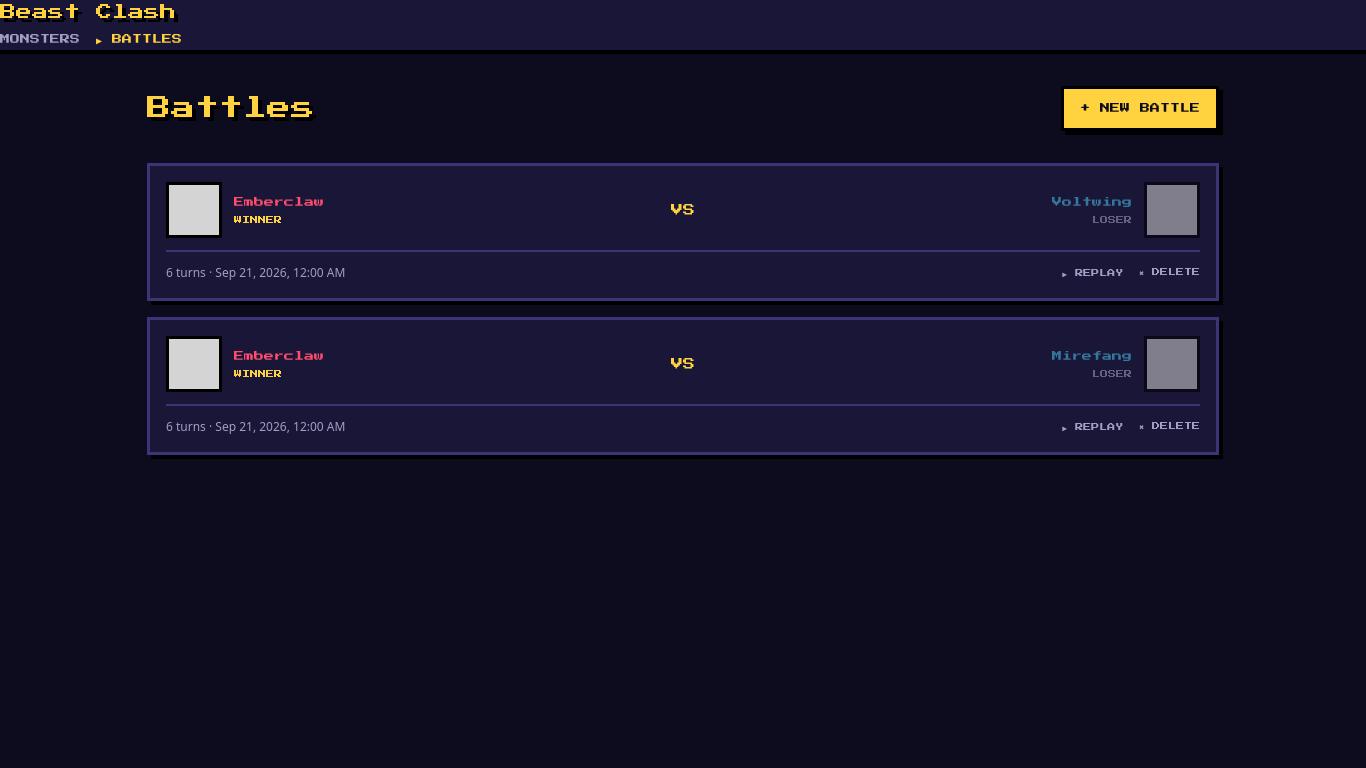
Test: BattleList: delete › deletes the battle and refreshes the list
Click the button "✖ Delete" below "Mirefang": x=1170, y=427 [1139,421,1200,433]
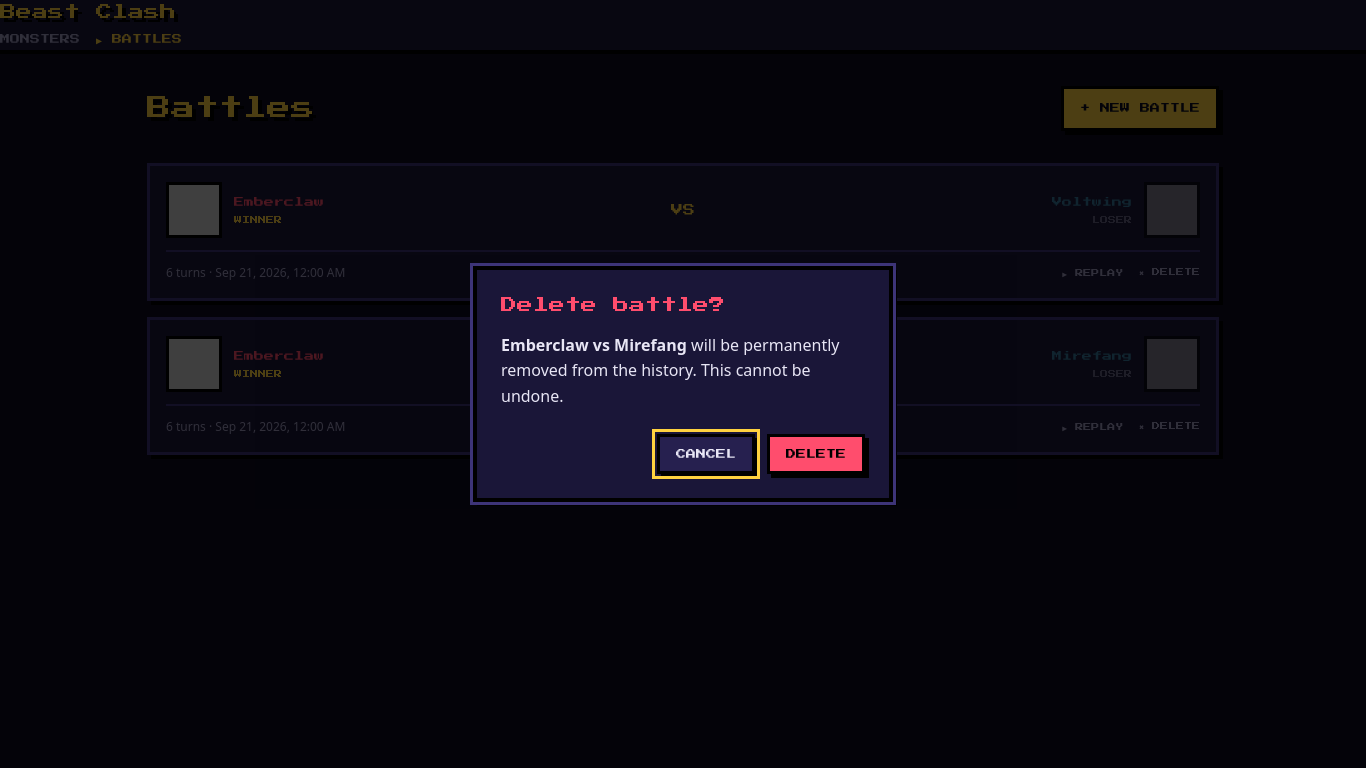
Click the button "Delete": x=816, y=454 [767,434,865,474]
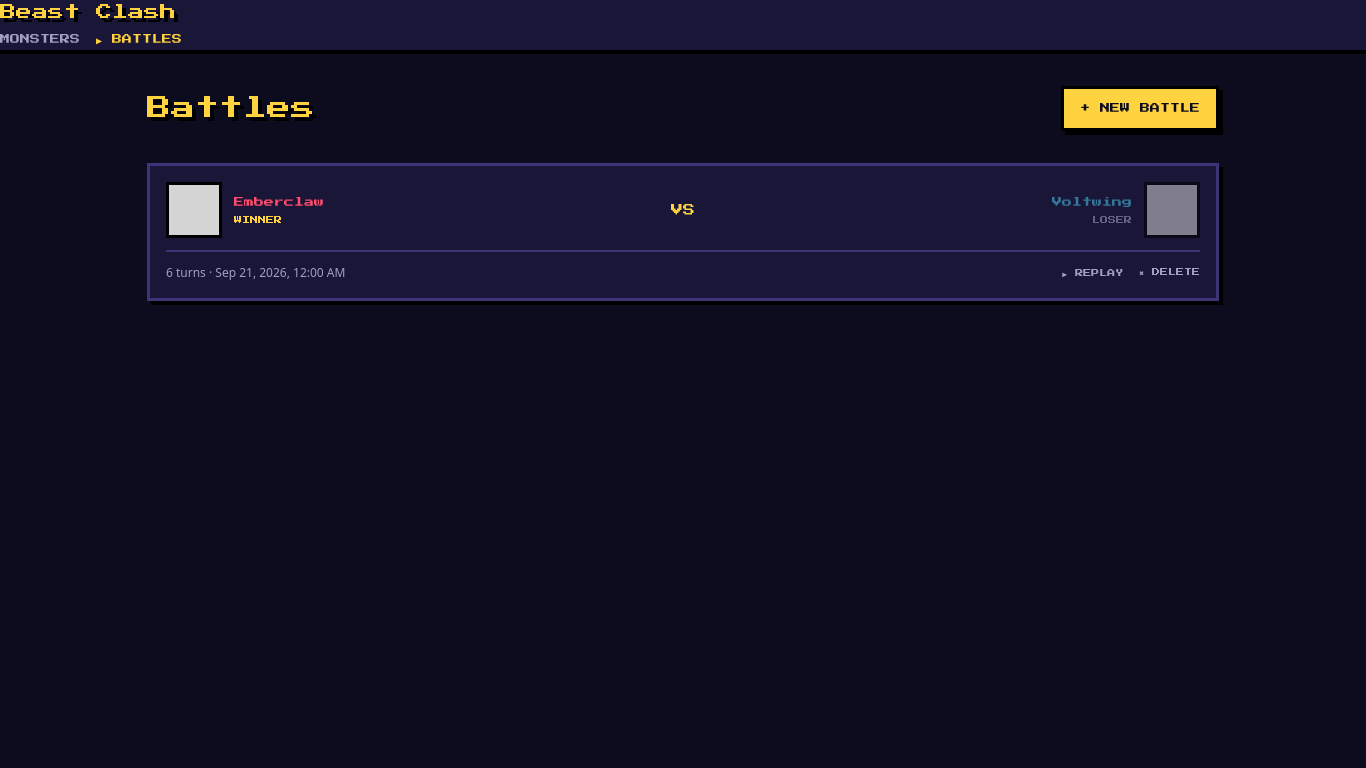
Expected: the element named "Emberclaw vs Voltwing" is shown, [147,163,1219,301]
Expected: the text "Emberclaw vs Mirefang" is gone
Expected: the dialog is gone
